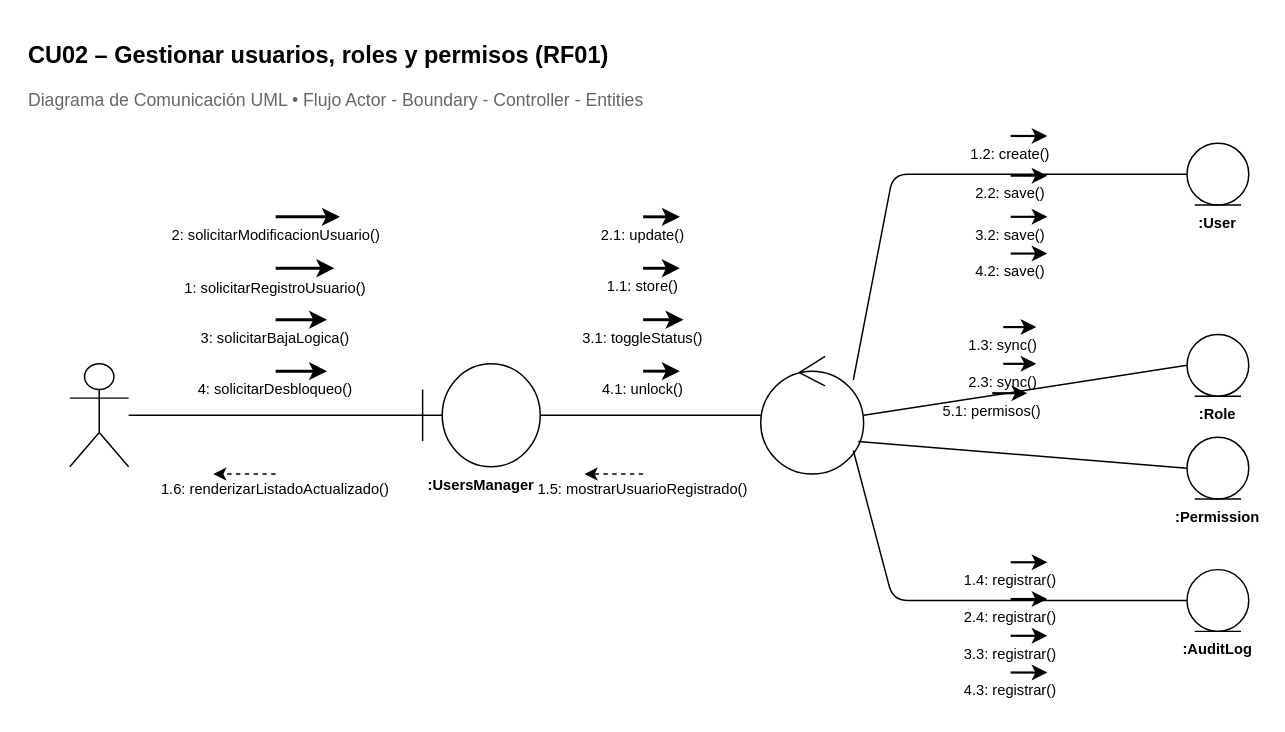
This 1285x732 diagram has some shape labels left out. The shapes that lost their labels are listed below. From the top down, each one's centre as x and y in pixels, then its label:
At [98,414]: ":Administrador".
At [811,414]: ":UsersController".
